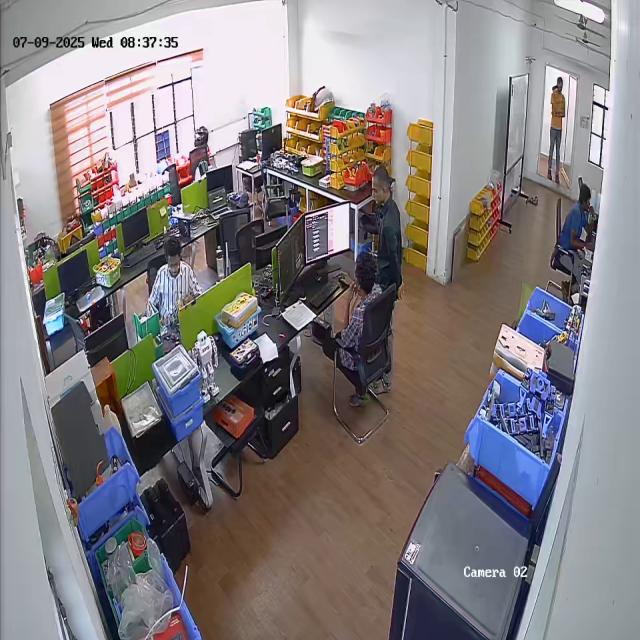person: (370, 164, 403, 402), (330, 251, 382, 387), (147, 238, 204, 334), (564, 182, 596, 280), (543, 74, 566, 185)
